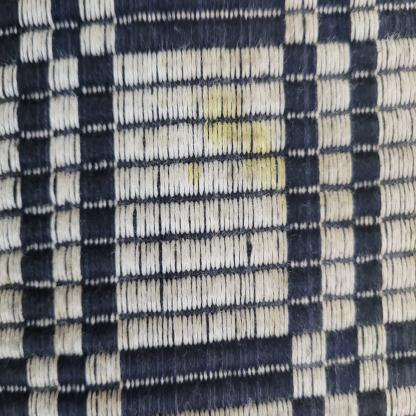spot: (182, 43, 296, 216)
